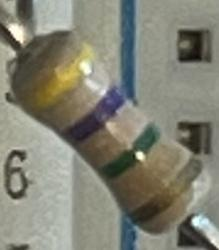Blue: (59, 86, 129, 148)
Green: (98, 121, 165, 182)
Side-Gold: (129, 156, 207, 231)
Yellow: (19, 44, 97, 115)
